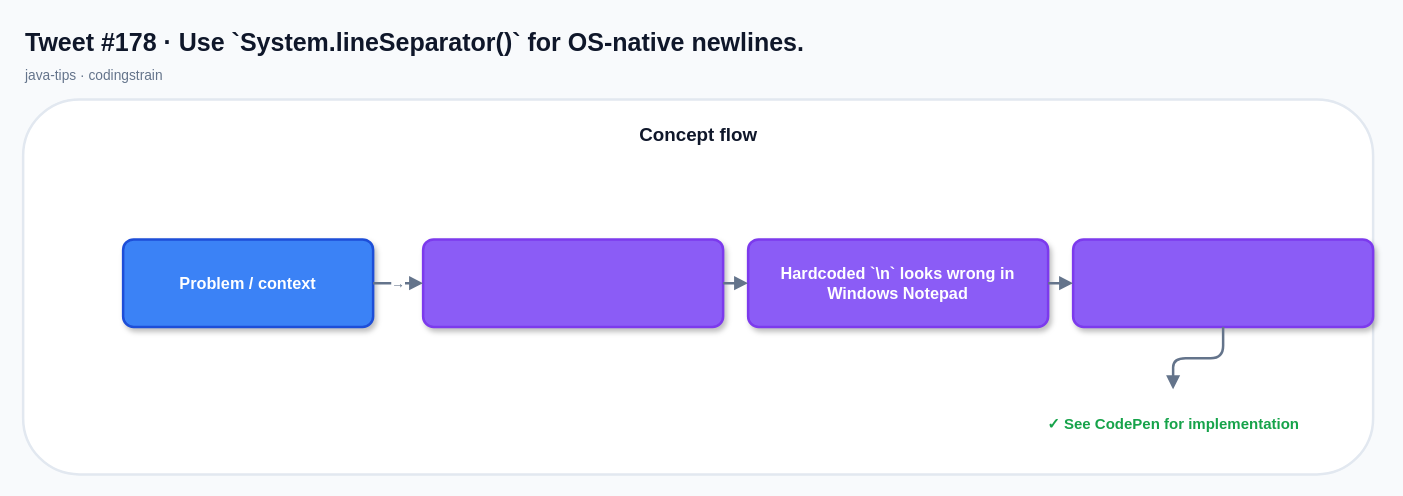
Image size: 1403x496. Some labels were removed from this diagram. The centre of each missing label's shape, as x and y in pixels:
"Picks the correct line ending for this OS" belongs at pixel 1223 284.
"💡 Use `System.lineSeparator()` for OS-native newlines." belongs at pixel 573 284.
